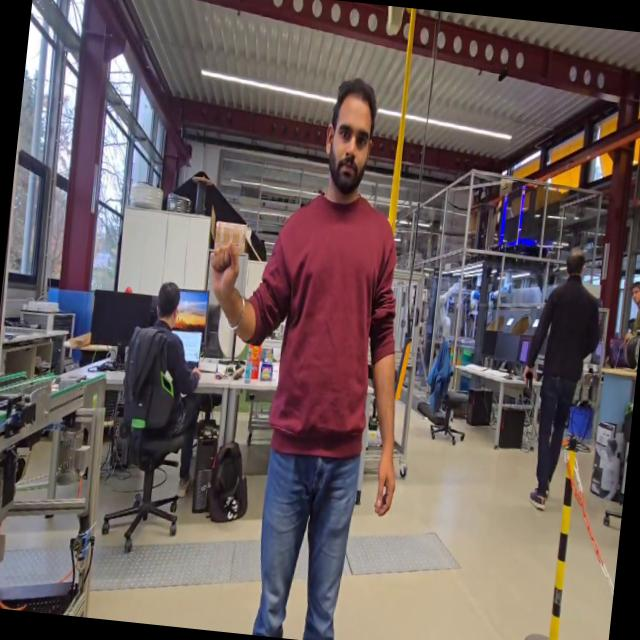closed_fist: (202, 228, 248, 312)
